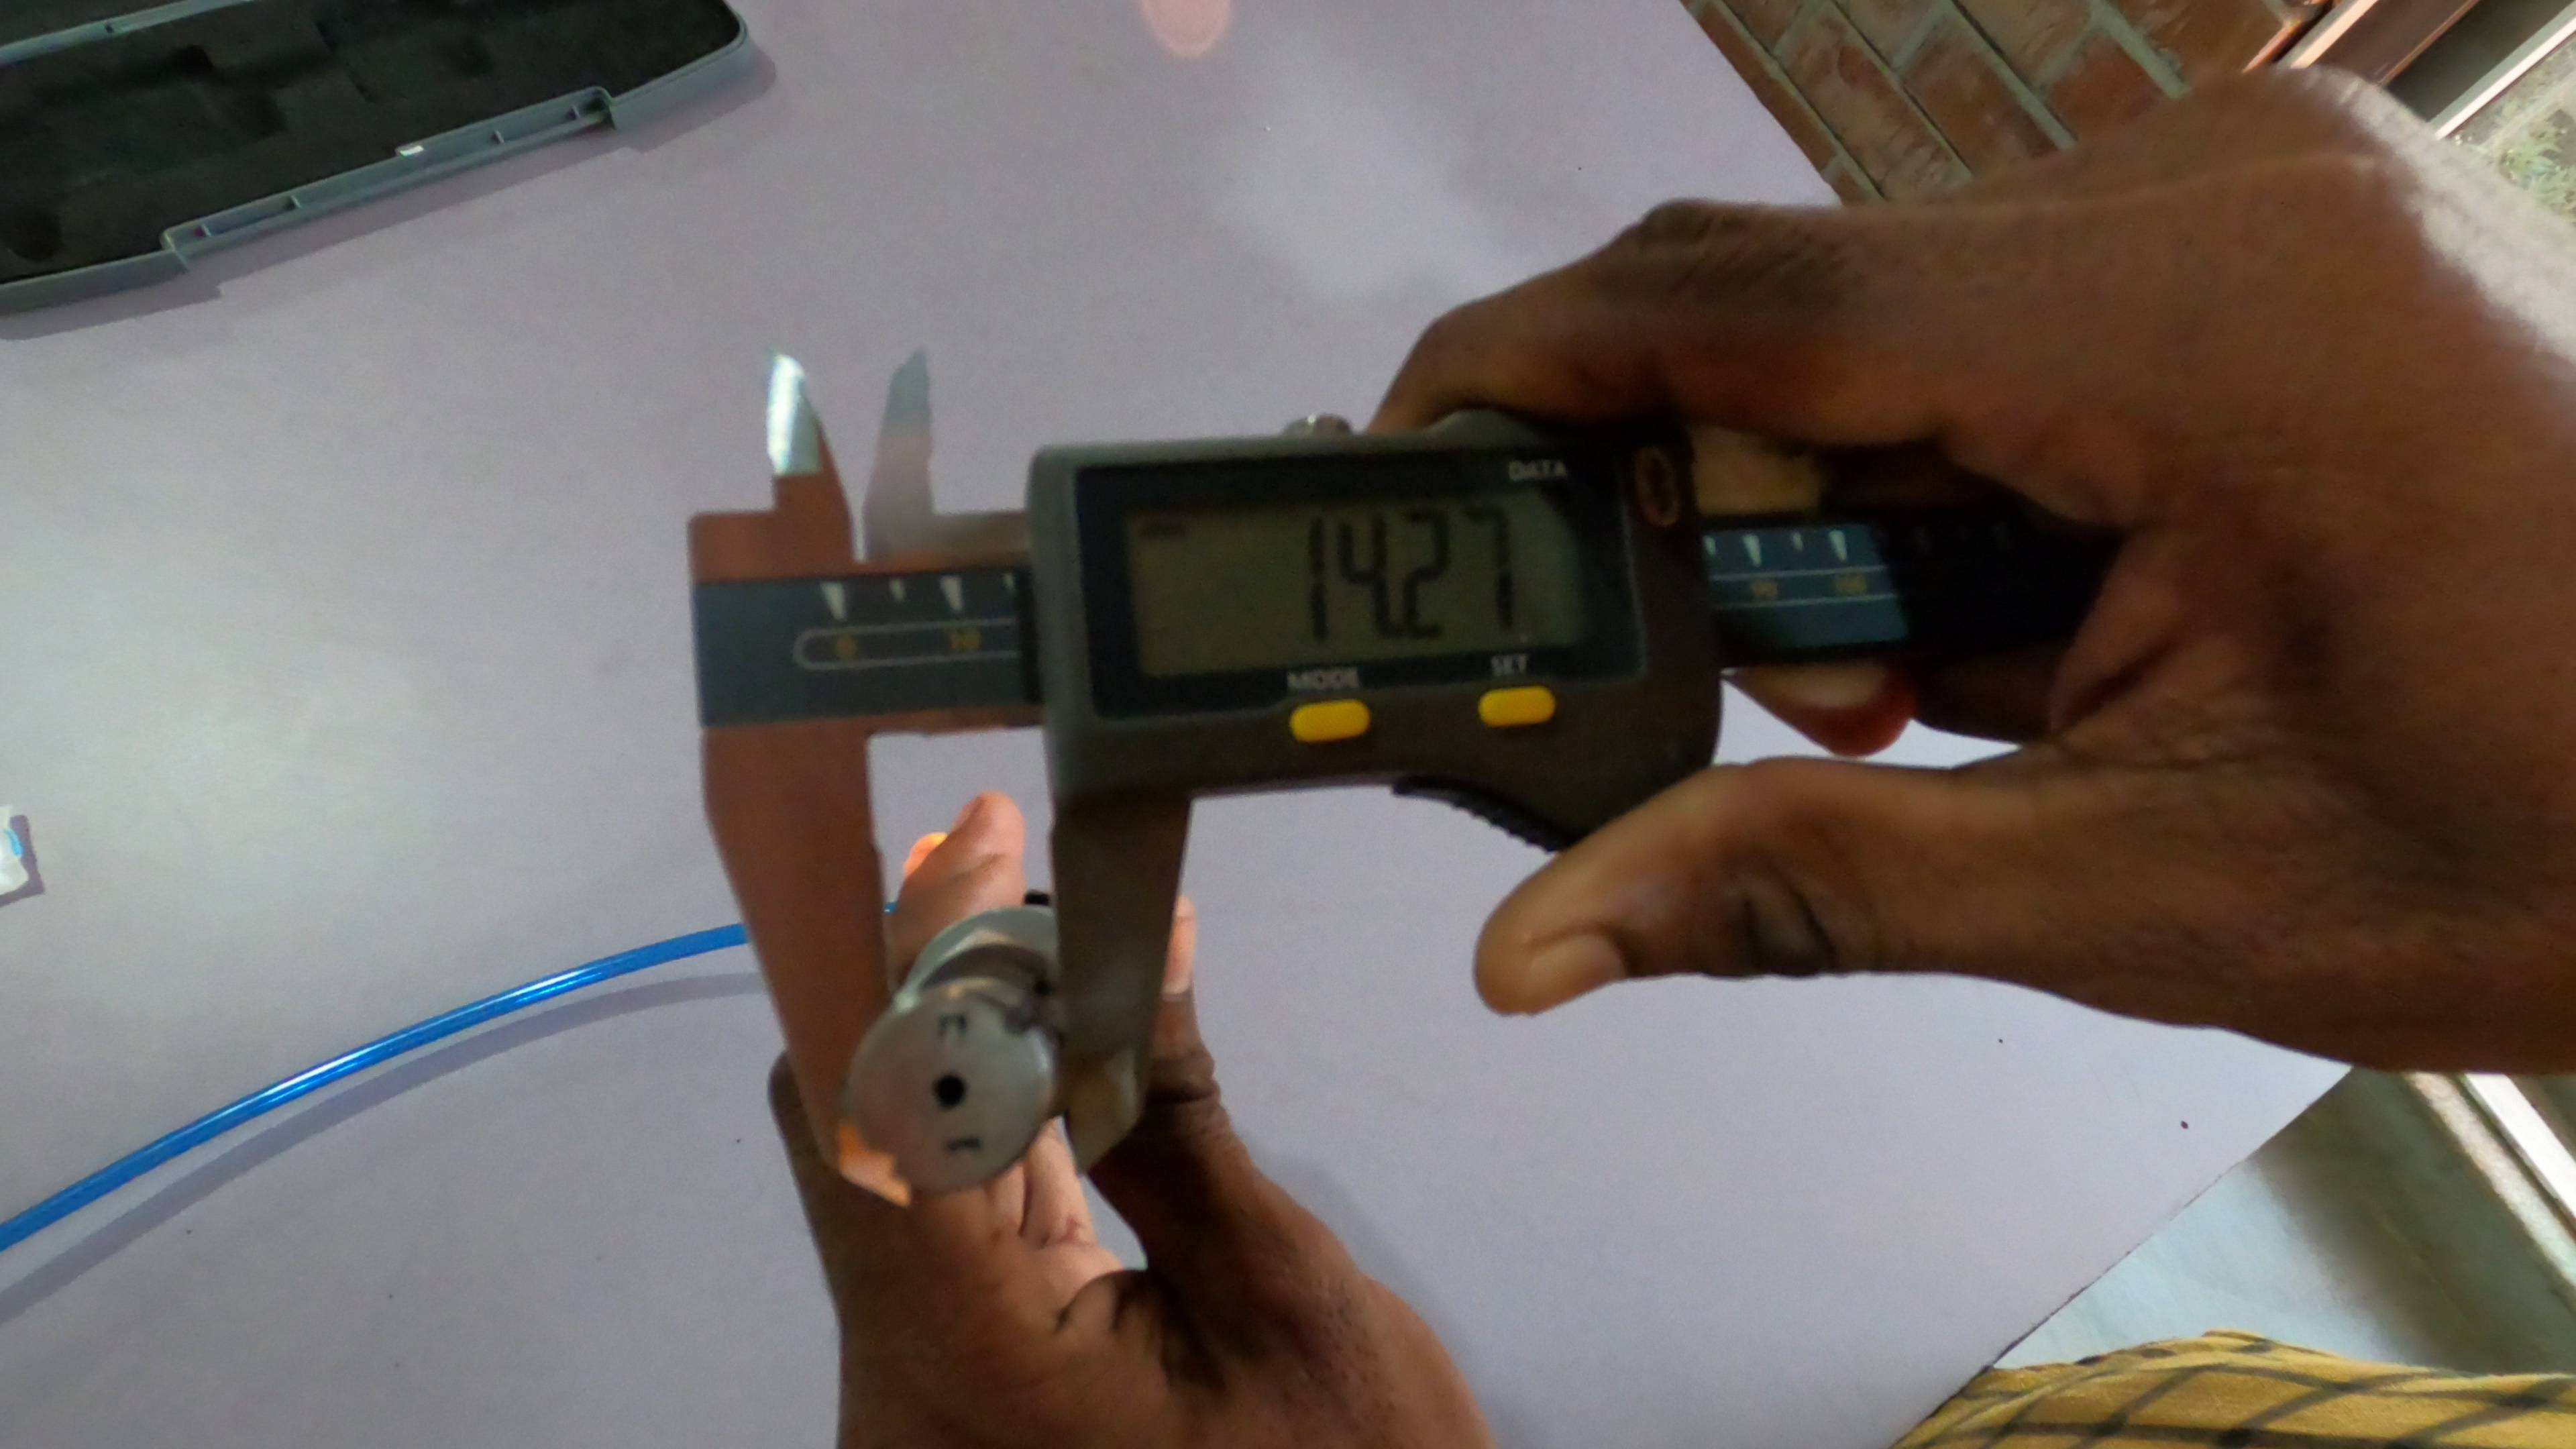vernier_caliper: (679, 341, 2042, 1214)
